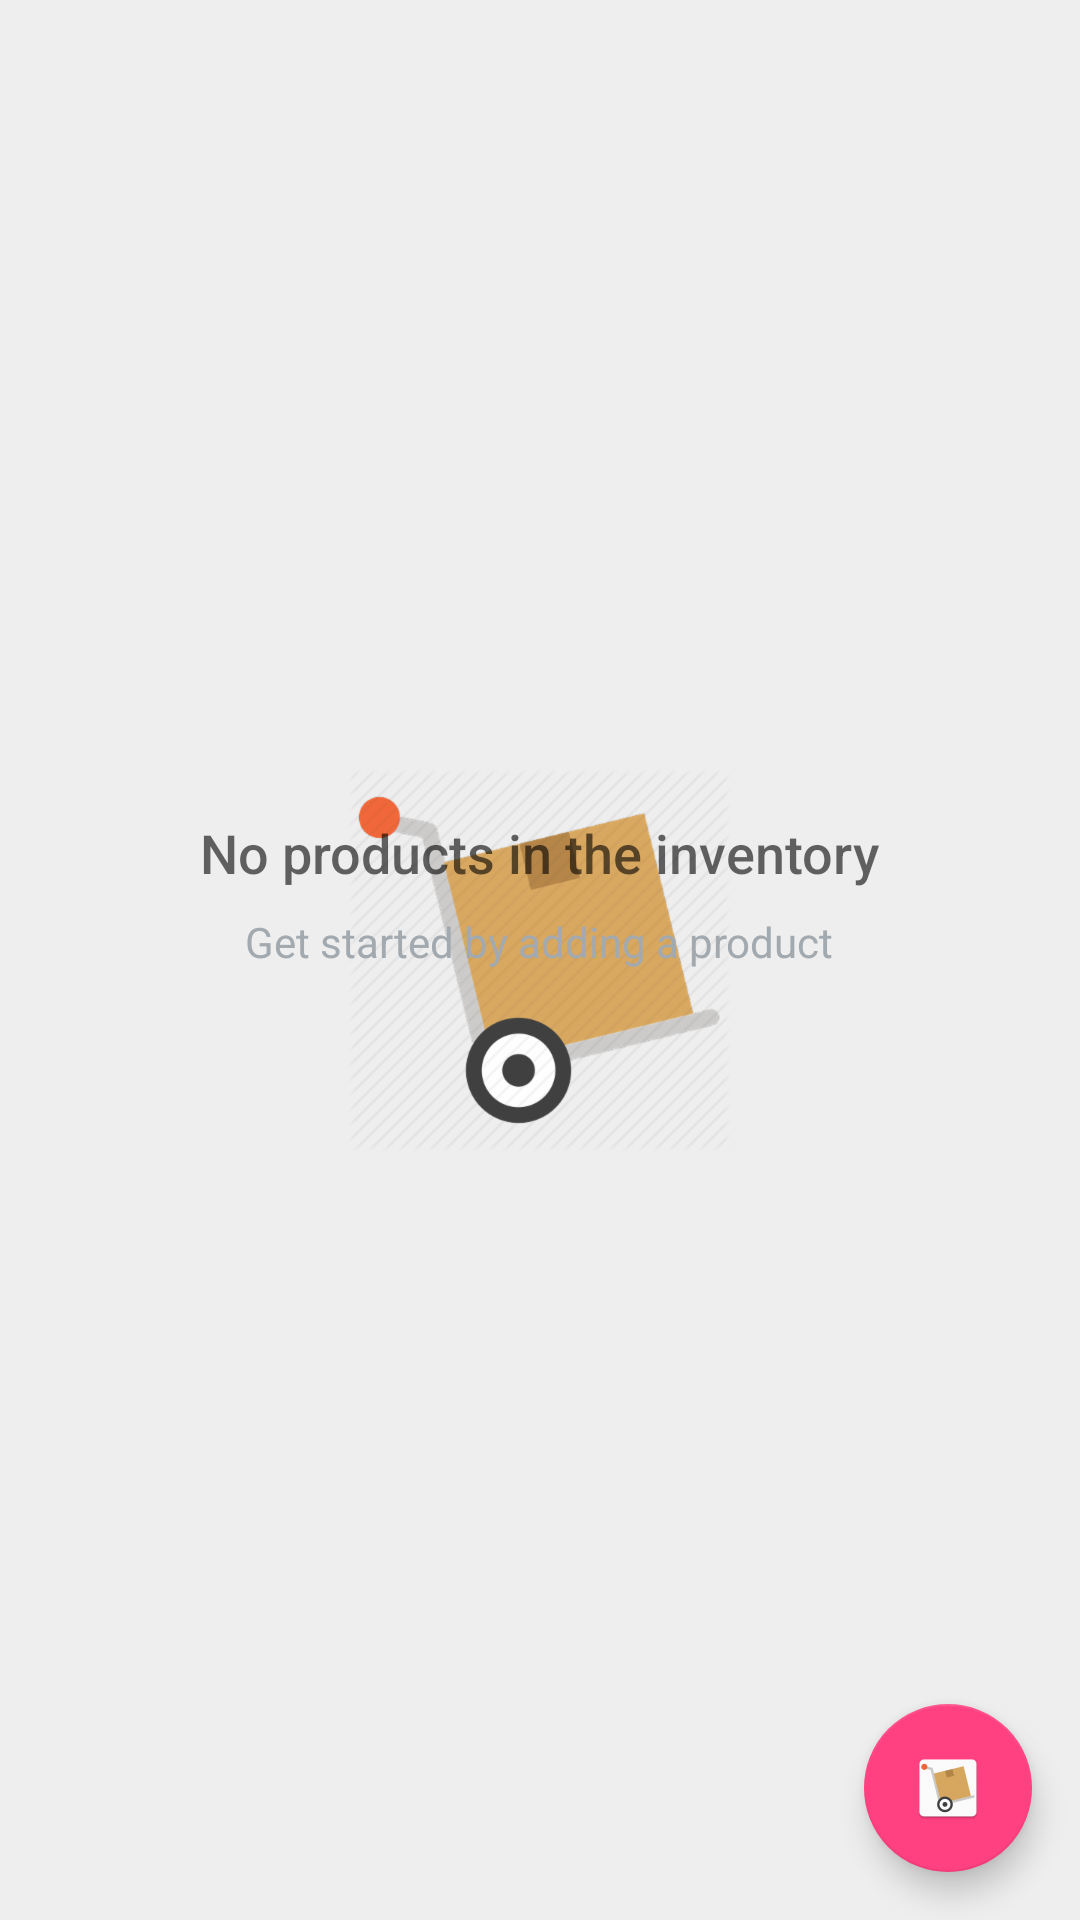

Named icons in this screenshot (1080w x 1920h) and their centers, [x,y]:
add product: [948,1788]
